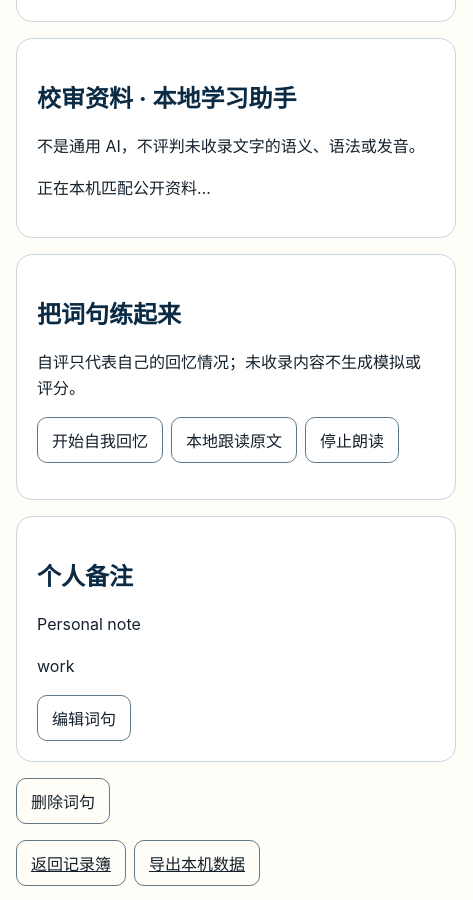
it: reports settings read failure without playing a default success
(page scrolled)
Click the button "本地跟读原文".
click(234, 440)  # box x1=171 y1=418 x2=297 y2=464
(page scrolled)
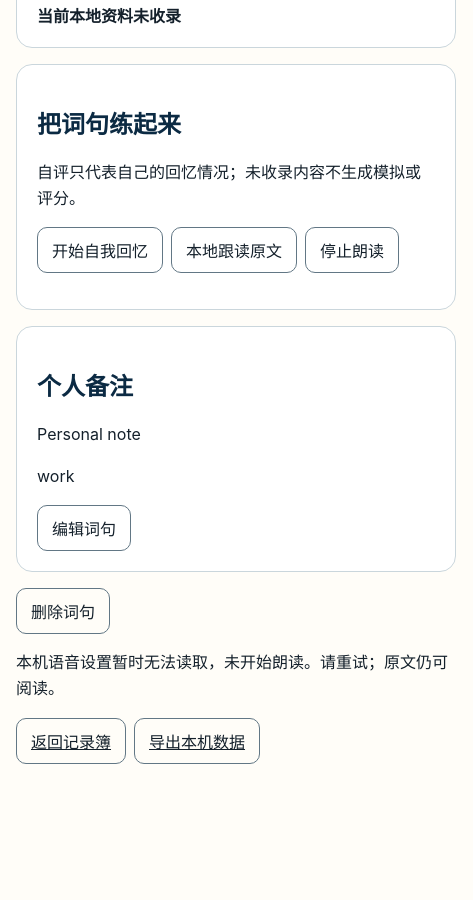
Check: the message shows "语音设置", box x1=16 y1=652 x2=448 y2=698
